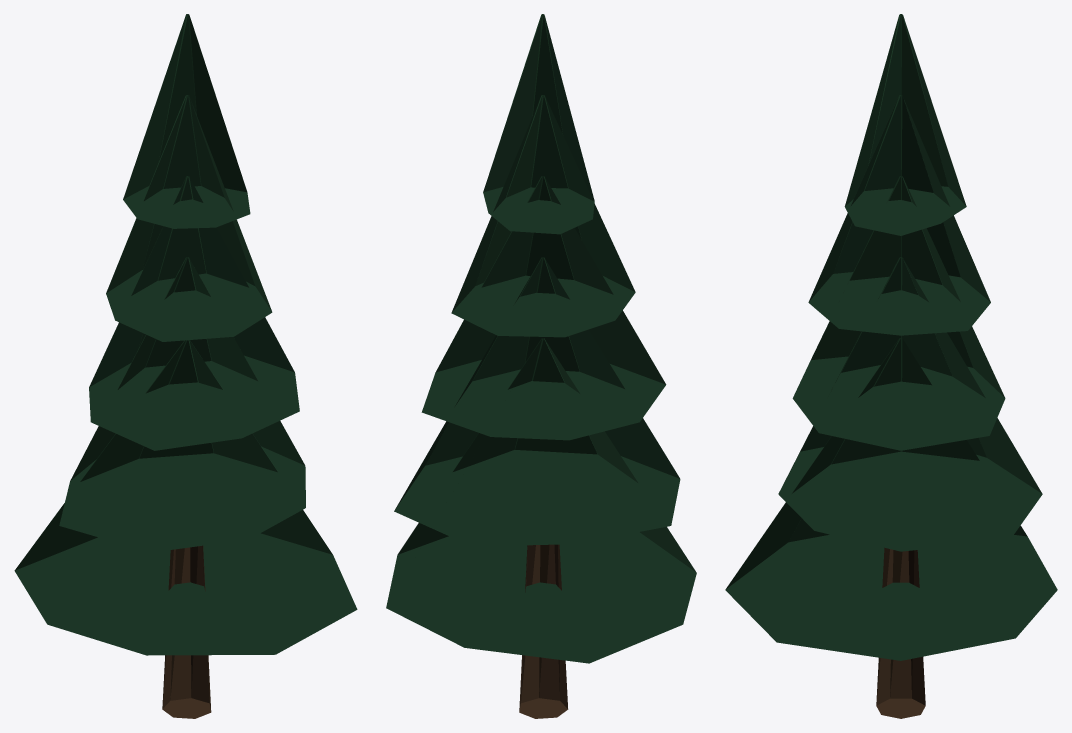
Rendered from pine.glb.
3 renders of one model, left to right at view 1: azimuth 30°, elevation 25°; view 2: azimuth 150°, elevation 25°; view 3: azimuth 270°, elevation 25°, orthographic.
Visible parts, largest first — view 1: pine; view 2: pine; view 3: pine.
Boxes of the visible parts, x1=… form: pine: x1=14, y1=14, x2=357, y2=718; pine: x1=386, y1=14, x2=696, y2=718; pine: x1=725, y1=14, x2=1057, y2=718.
Size of the model in its own units: 3.64 by 8.45 by 3.67.
